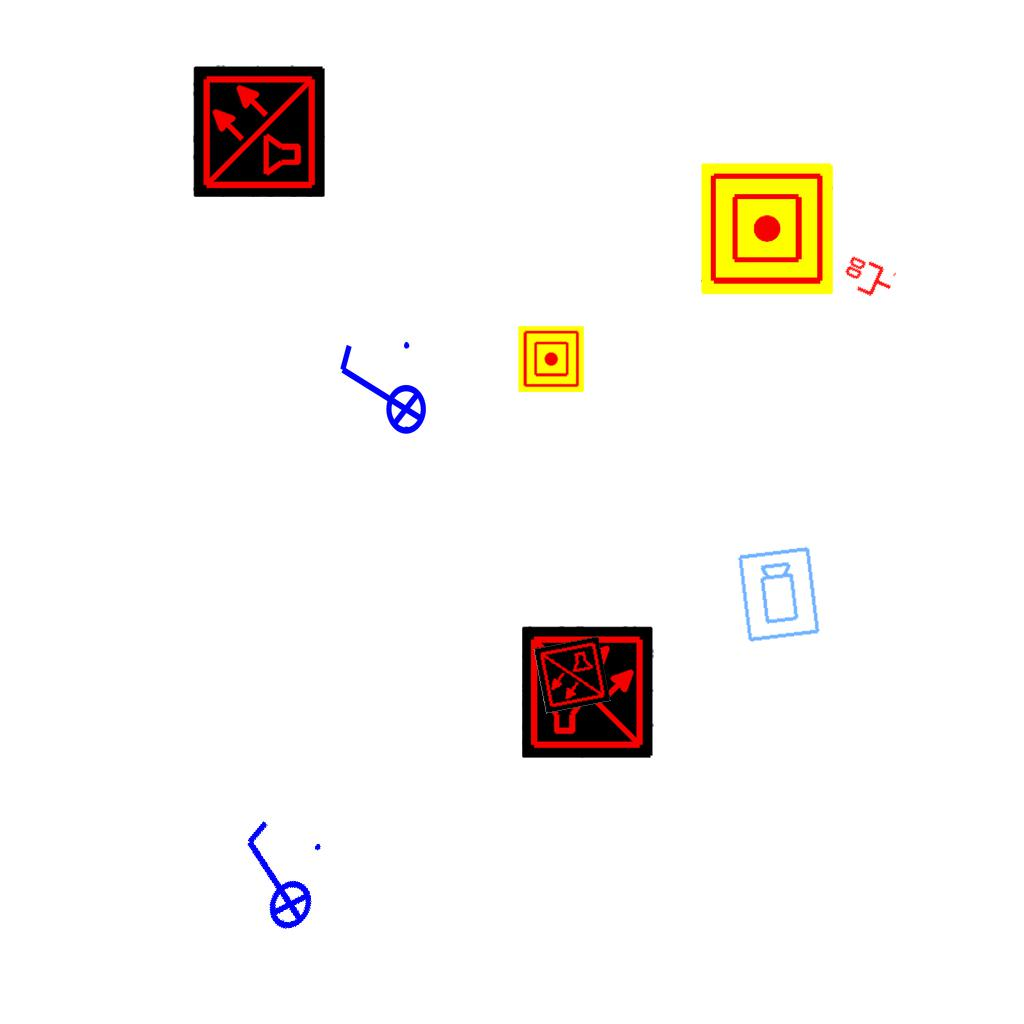Ausschalter_beleuchtet: (206, 806, 342, 950), (332, 336, 428, 448)
Datenanschluss_zweifach: (837, 252, 899, 305)
KFO_Kamera_mit_Festobjektiv: (735, 544, 824, 645)
NAM-Nichtautomatischer_Melder: (701, 163, 833, 295), (518, 326, 584, 392)
OKW_Multisensormelder_(Kombination_optischer_Rauch-Kahlenmonoxid_Waerme-Melder): (193, 65, 325, 197), (522, 626, 654, 758), (533, 636, 611, 714)
